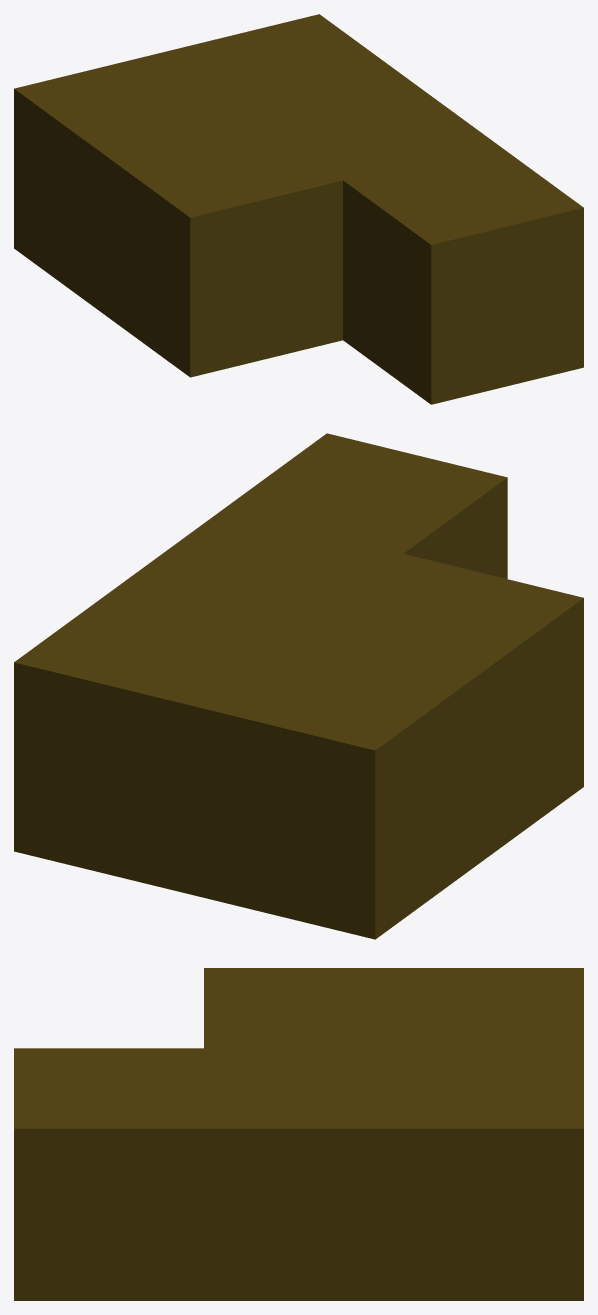
File: Blocks.fbx
3 views of the same model, one above another, from view 1: azimuth 30°, elevation 25°; view 2: azimuth 150°, elevation 25°; view 3: azimuth 270°, elevation 25° (orthographic). The views are drawn at different scales.
Visible parts, largest first — view 1: Block_5, Block_1, Block_4, Block_3, Block_2; view 2: Block_4, Block_2, Block_1, Block_5, Block_3; view 3: Block_2, Block_3, Block_5, Block_1, Block_4.
Part boxes in pixels (x1,y1,x2,y2): Block_5: [343, 143, 583, 404]; Block_1: [102, 116, 342, 377]; Block_4: [14, 51, 254, 312]; Block_3: [255, 78, 495, 180]; Block_2: [167, 14, 406, 115]; Block_4: [194, 630, 479, 939]; Block_2: [14, 586, 298, 895]; Block_1: [299, 554, 583, 862]; Block_5: [223, 433, 507, 578]; Block_3: [119, 509, 402, 629]; Block_2: [394, 1048, 583, 1300]; Block_3: [204, 1048, 393, 1300]; Block_5: [14, 1048, 203, 1300]; Block_1: [204, 968, 393, 1048]; Block_4: [394, 968, 583, 1048].
Bounding box in the file's own units: 2 × 1 × 3.
